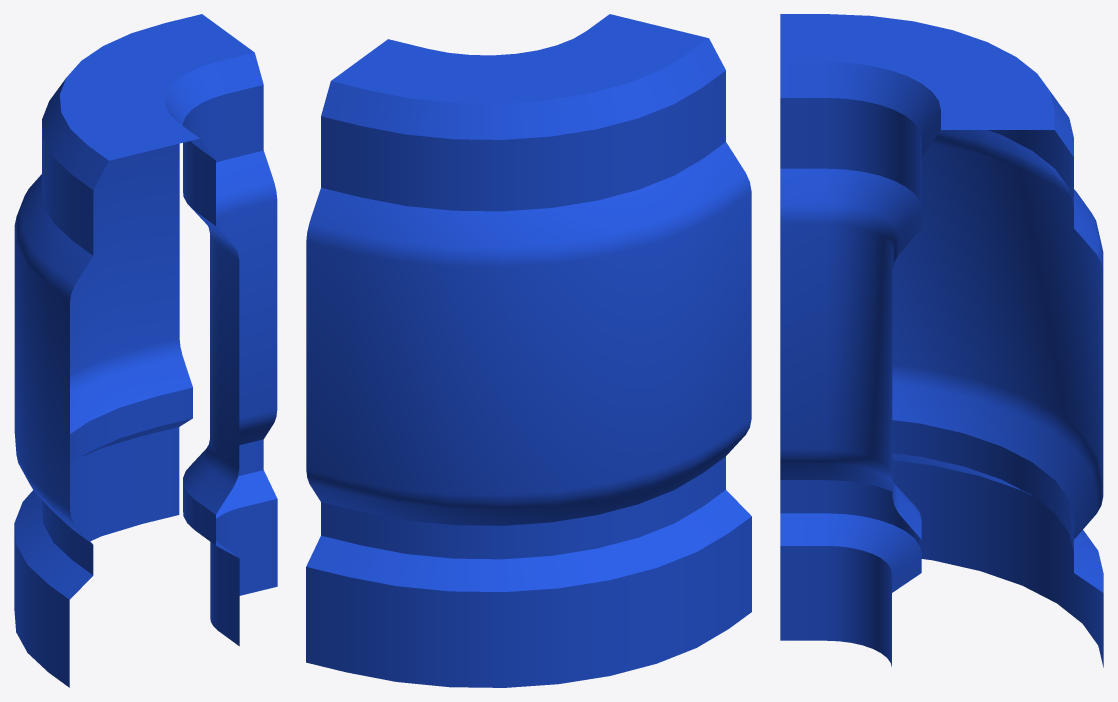
The model's file is Wall_B_2_1.fbx.
3 renders of one model, left to right at view 1: azimuth 30°, elevation 25°; view 2: azimuth 150°, elevation 25°; view 3: azimuth 270°, elevation 25°, orthographic. The views are drawn at different scales.
Visible parts, largest first — view 1: Wall_2_1; view 2: Wall_2_1; view 3: Wall_2_1.
Boxes of the visible parts, bbox=[...] form: Wall_2_1: bbox=[14, 14, 277, 687]; Wall_2_1: bbox=[306, 14, 751, 687]; Wall_2_1: bbox=[780, 14, 1103, 667].
Size of the model in its own units: 1.05 by 2 by 1.05.
